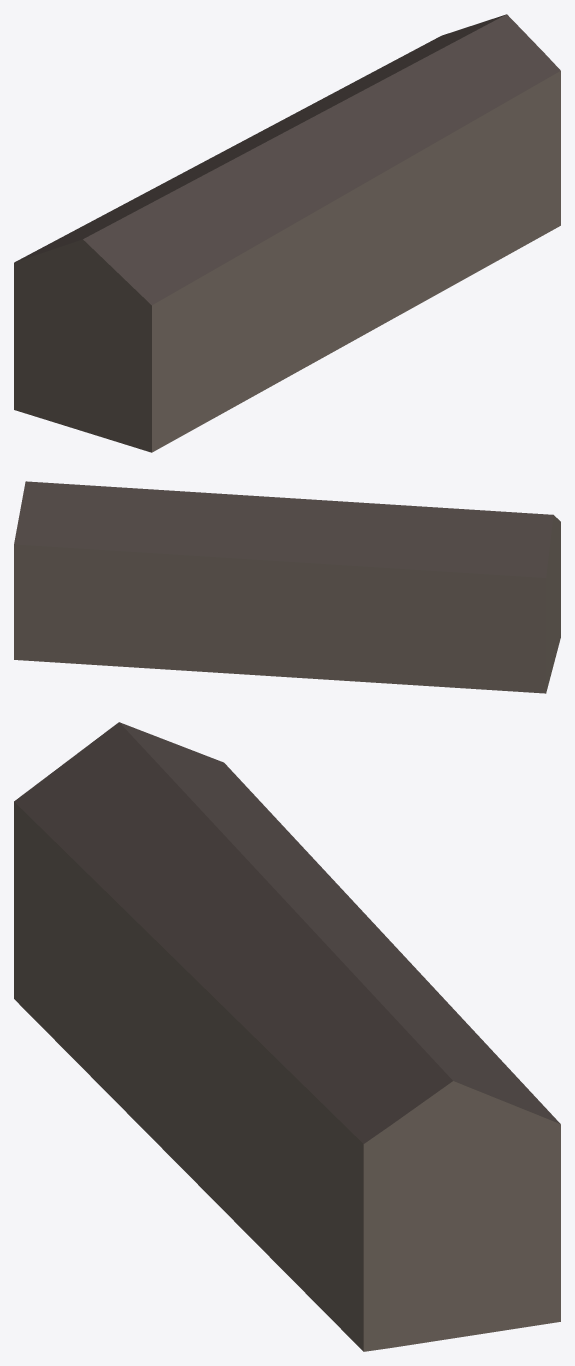
The picture shows the model from 3 angles, top to bottom: view 1: azimuth 30°, elevation 25°; view 2: azimuth 150°, elevation 25°; view 3: azimuth 270°, elevation 25°; orthographic projection. The views are drawn at different scales.
Visible parts, largest first — view 1: HP-w1198845833; view 2: HP-w1198845833; view 3: HP-w1198845833.
Boxes of the visible parts, left/top/right/bottom form: HP-w1198845833: left=14, top=14, right=560, bottom=452; HP-w1198845833: left=14, top=481, right=560, bottom=693; HP-w1198845833: left=14, top=722, right=560, bottom=1351.
Size of the model in its own units: 38.3 by 11.73 by 22.6.
